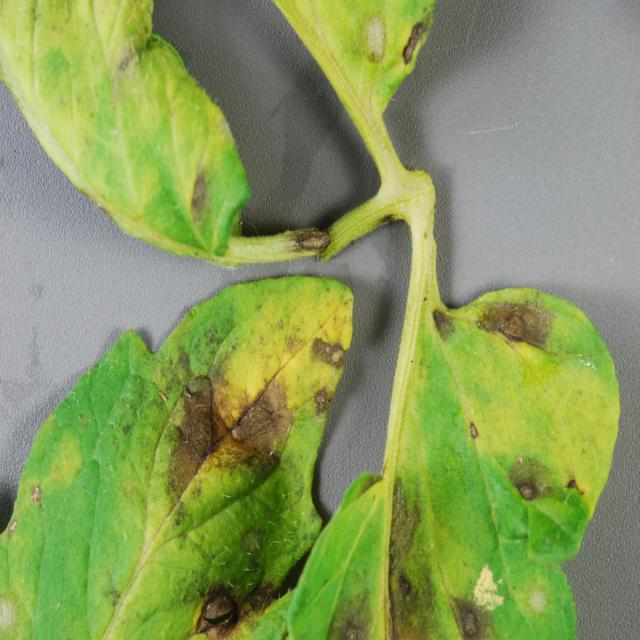Early_blight: (158, 369, 295, 513), (388, 482, 497, 640), (192, 565, 278, 640), (469, 293, 557, 351), (327, 583, 380, 640), (503, 450, 558, 502), (299, 329, 350, 369), (397, 12, 431, 72), (357, 9, 390, 66), (186, 168, 218, 226), (302, 377, 338, 421), (423, 304, 458, 346)
